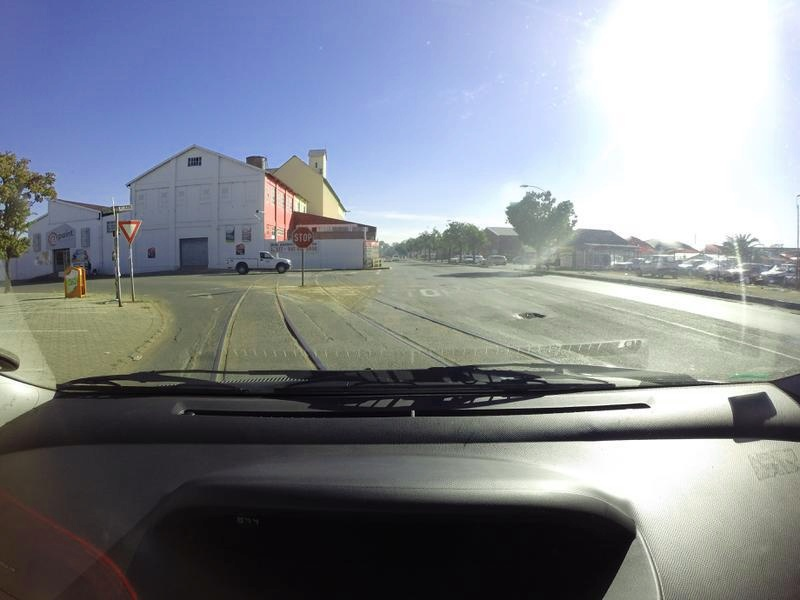pothole: (516, 306, 552, 328)
